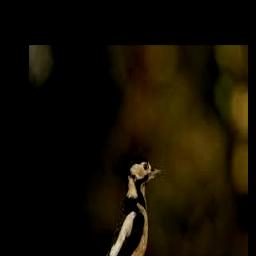Woodpecker: (99, 157, 163, 256)
